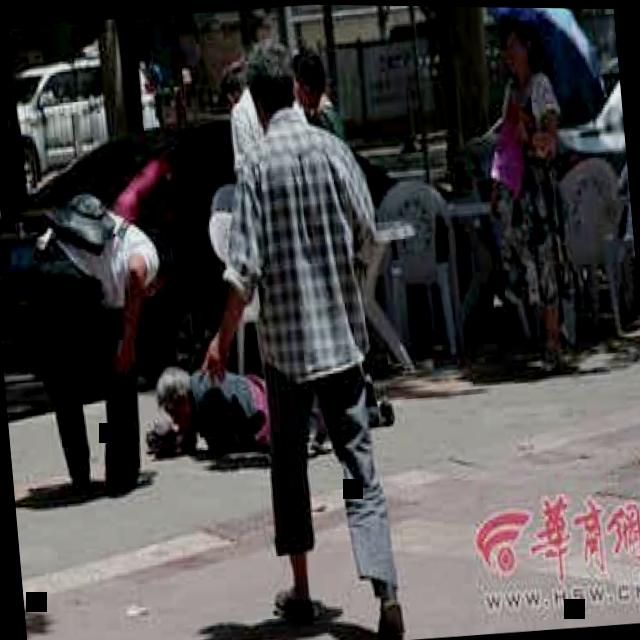Fall-Detected: (133, 335, 292, 468)
